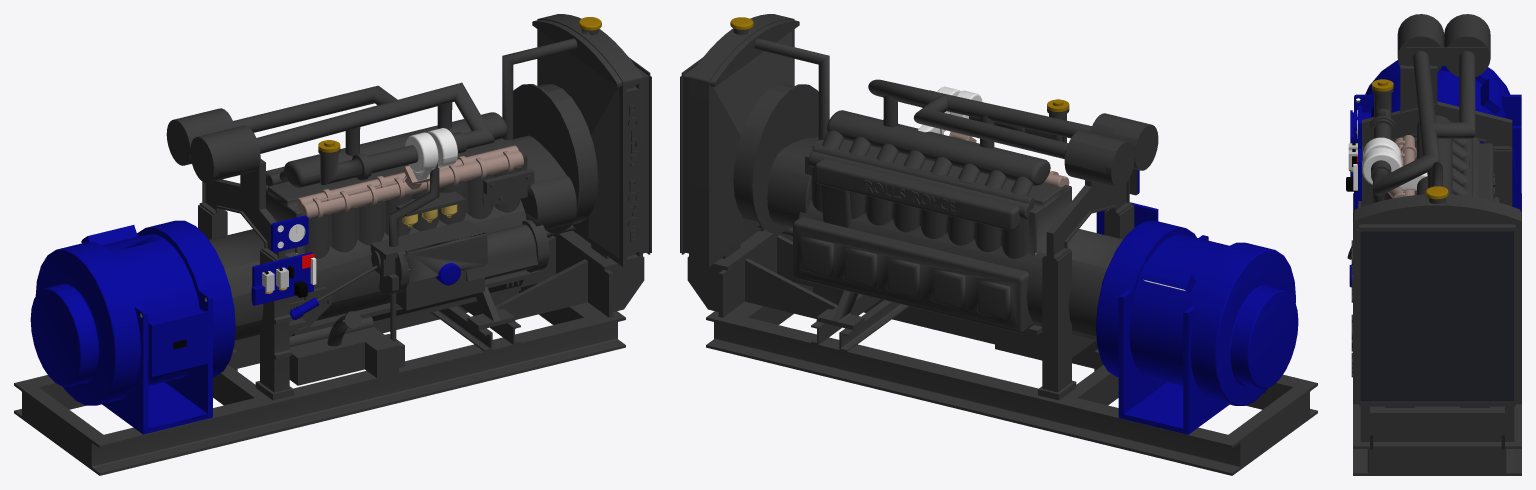
Rendered from generador.glb.
3 views of the same model, side by side, from view 1: azimuth 30°, elevation 25°; view 2: azimuth 150°, elevation 25°; view 3: azimuth 270°, elevation 25° (orthographic).
Visible parts, largest first — view 1: _G-Object (Loose Mesh).003, Entorno del Equipo, Radiador y Ventilador, Correas y Poleas, Filtro de Aire, Sistema de Escape, Breakers y Panel, Inspeccion de Fugas, Bateria de Arranque; view 2: _G-Object (Loose Mesh).003, Entorno del Equipo, Radiador y Ventilador, Filtro de Aire, Correas y Poleas, Sistema de Escape, Breakers y Panel; view 3: _G-Object (Loose Mesh).003, Radiador y Ventilador, Entorno del Equipo, Filtro de Aire, Sistema de Escape, Breakers y Panel, Nivel de Refrigerante.
Boxes of the visible parts, x1,y1,x2,y2 form: _G-Object (Loose Mesh).003: [30, 14, 651, 434]; Entorno del Equipo: [14, 261, 644, 475]; Radiador y Ventilador: [513, 31, 619, 258]; Correas y Poleas: [232, 135, 576, 326]; Filtro de Aire: [166, 108, 260, 182]; Sistema de Escape: [302, 128, 457, 185]; Breakers y Panel: [251, 208, 316, 305]; Inspeccion de Fugas: [289, 279, 523, 338]; Bateria de Arranque: [365, 331, 404, 377]; _G-Object (Loose Mesh).003: [680, 14, 1298, 434]; Entorno del Equipo: [687, 261, 1317, 475]; Radiador y Ventilador: [712, 31, 818, 258]; Filtro de Aire: [1064, 113, 1158, 187]; Correas y Poleas: [767, 136, 818, 228]; Sistema de Escape: [890, 86, 1069, 174]; Breakers y Panel: [1096, 169, 1156, 234]; _G-Object (Loose Mesh).003: [1346, 37, 1521, 445]; Radiador y Ventilador: [1360, 231, 1513, 401]; Entorno del Equipo: [1353, 193, 1521, 475]; Filtro de Aire: [1397, 14, 1490, 76]; Sistema de Escape: [1362, 79, 1452, 186]; Breakers y Panel: [1346, 110, 1400, 198]; Nivel de Refrigerante: [1425, 186, 1448, 203].
Bounding box in the file's own units: 4.01 × 2.03 × 1.12.
